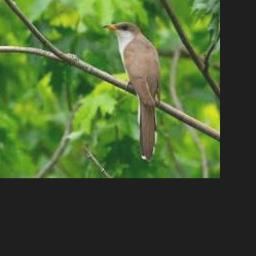Cuckoo: (102, 22, 161, 160)
